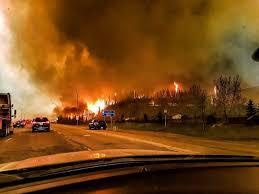fire: (83, 94, 108, 114), (169, 80, 184, 92)
